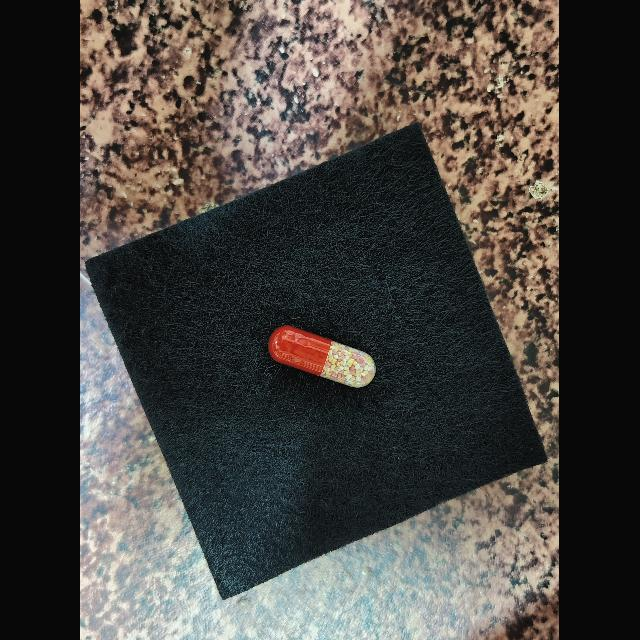Intact Capsule: (269, 326, 376, 388)
